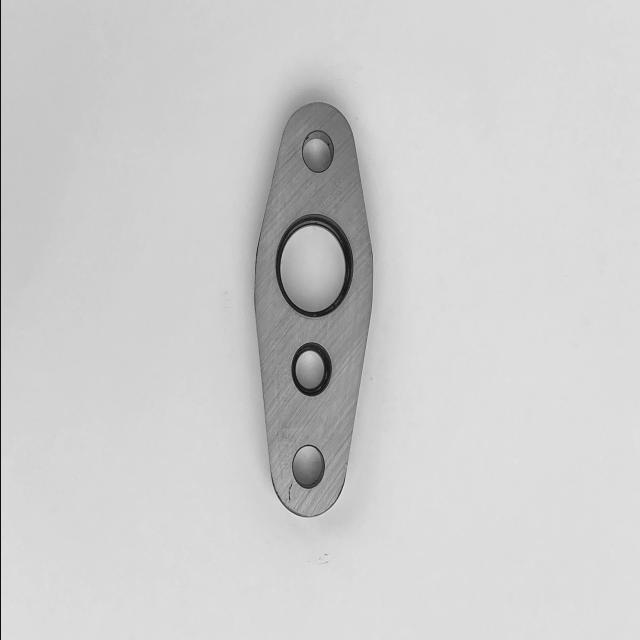lines: (285, 481, 293, 503)
